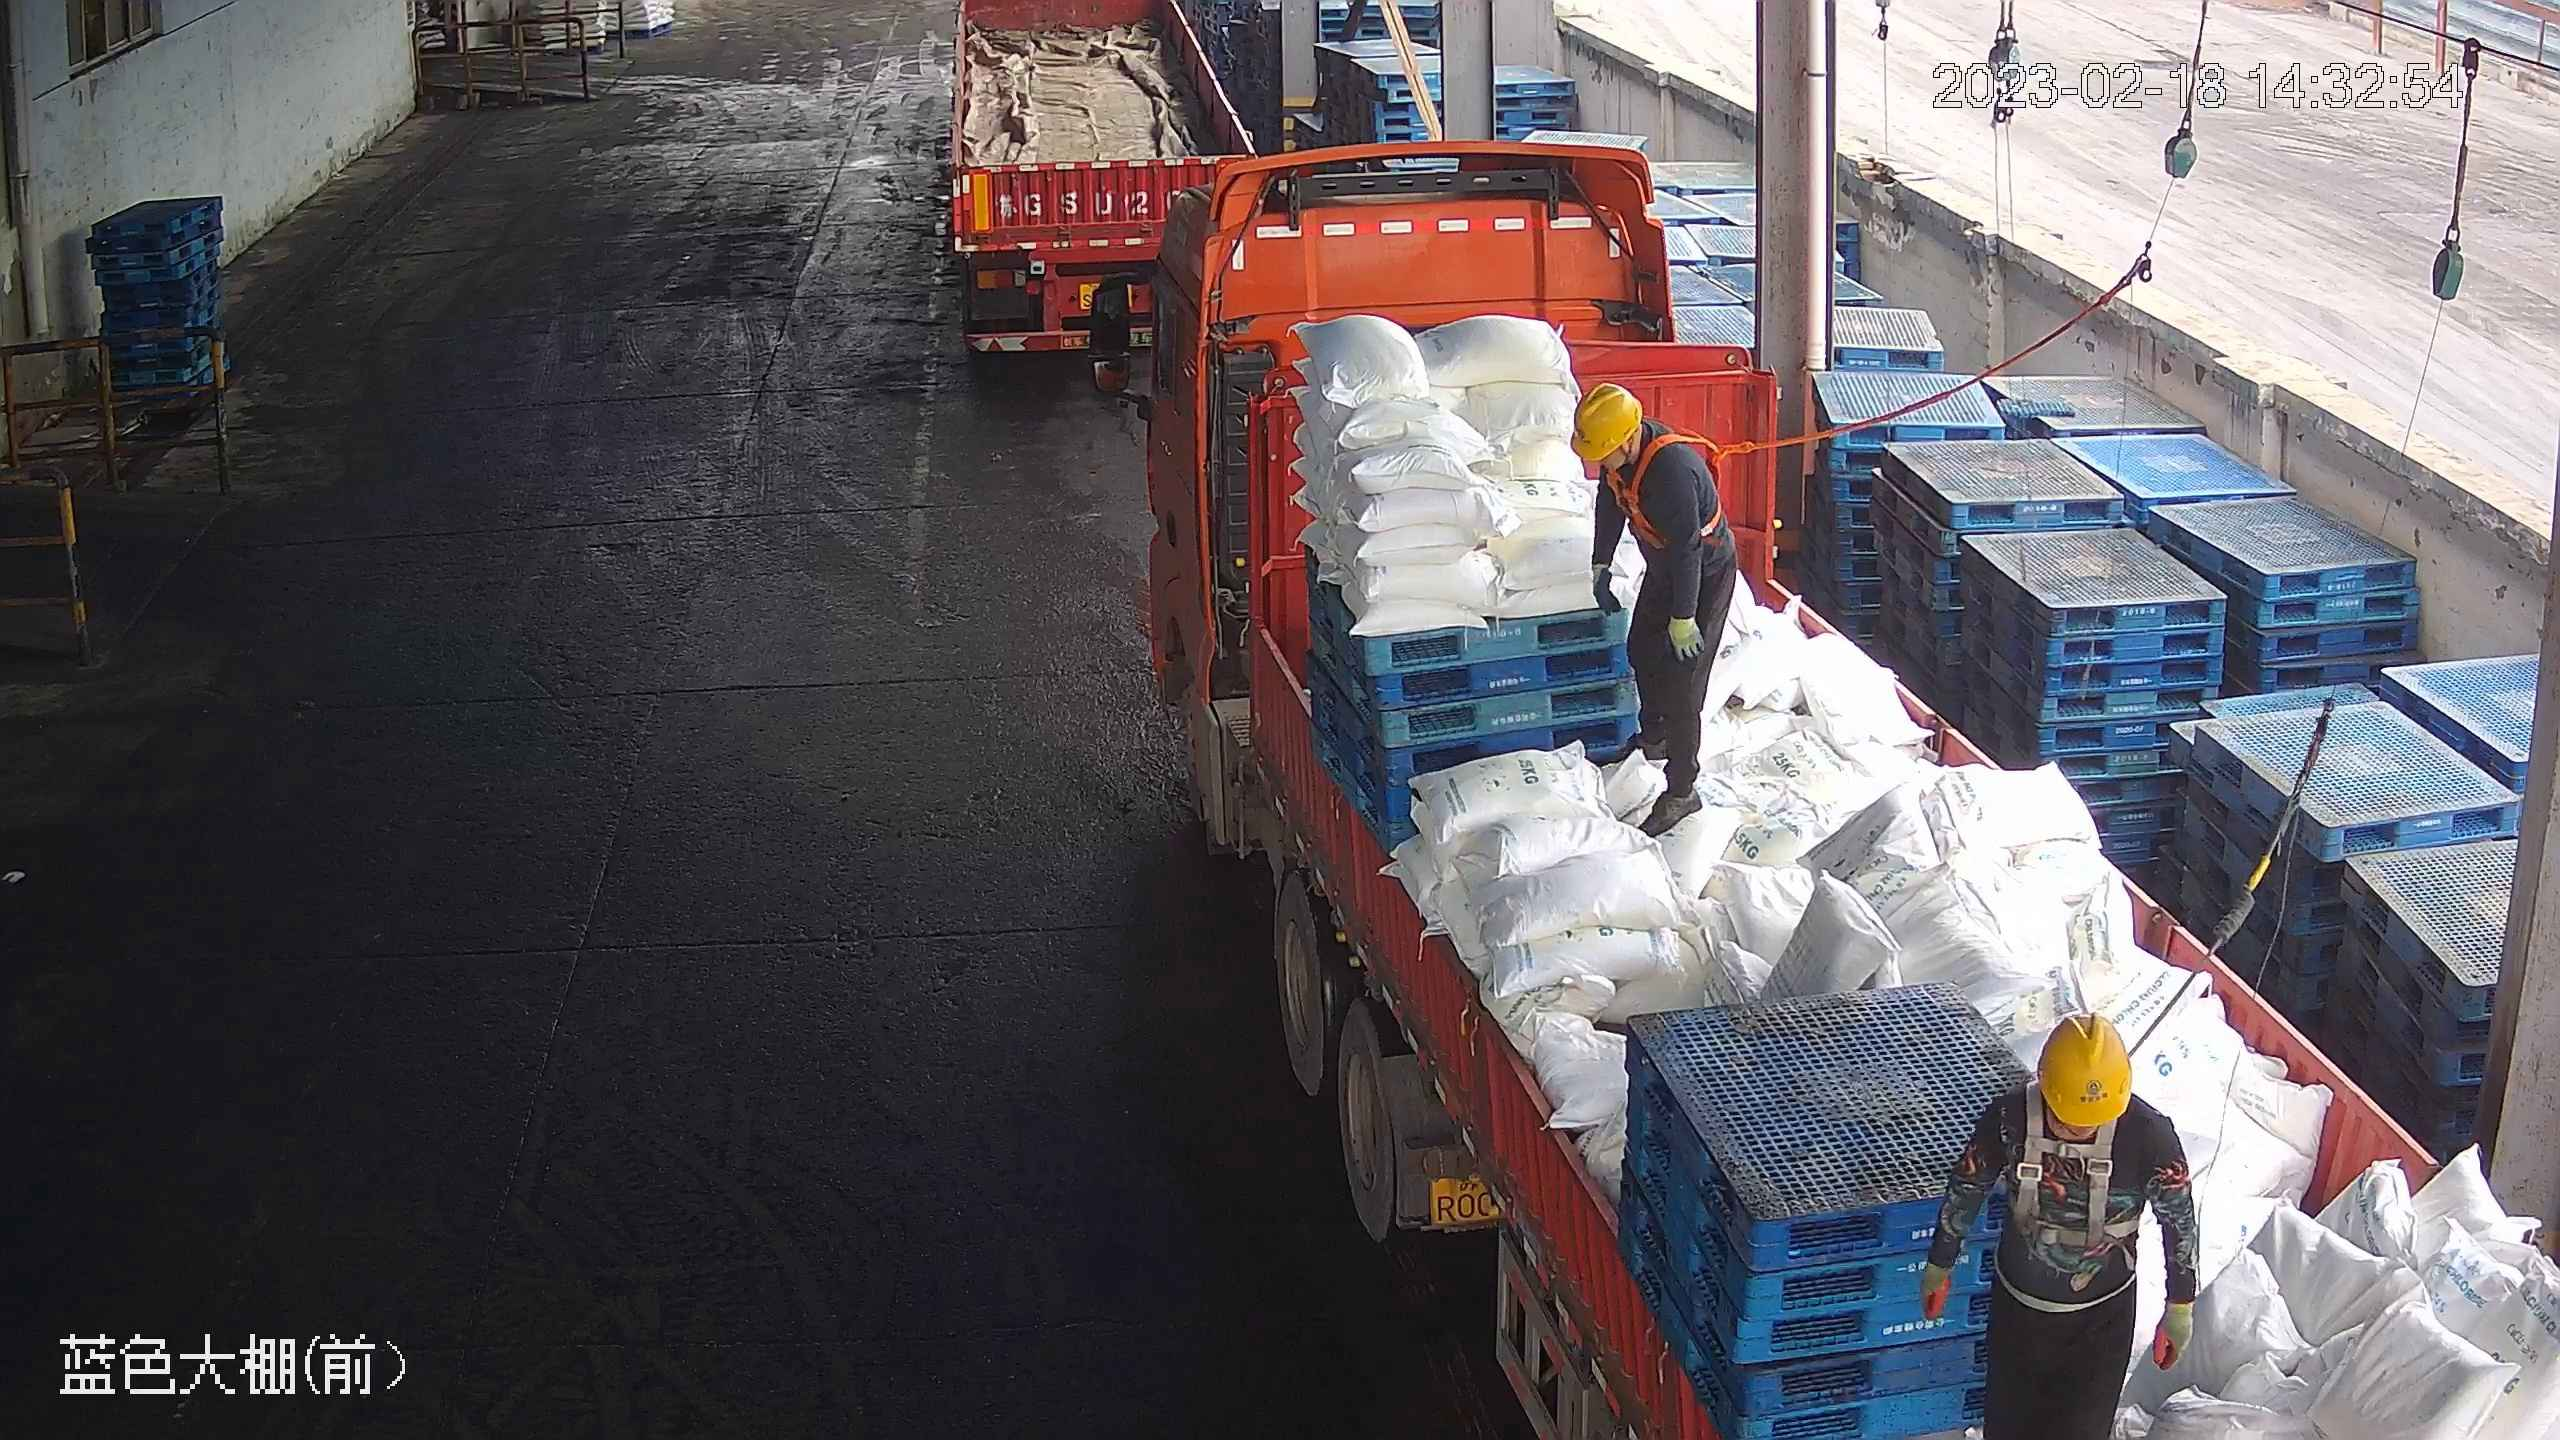belt: (1608, 419, 1741, 549), (2013, 1094, 2125, 1245)
head: (1974, 1009, 2174, 1192), (1569, 384, 1718, 532)
helmet: (2037, 1011, 2136, 1126), (1573, 382, 1644, 461)
people: (1926, 1010, 2200, 1434), (1572, 385, 1740, 840)
truck: (1071, 133, 2559, 1435), (939, 1, 1268, 376)
